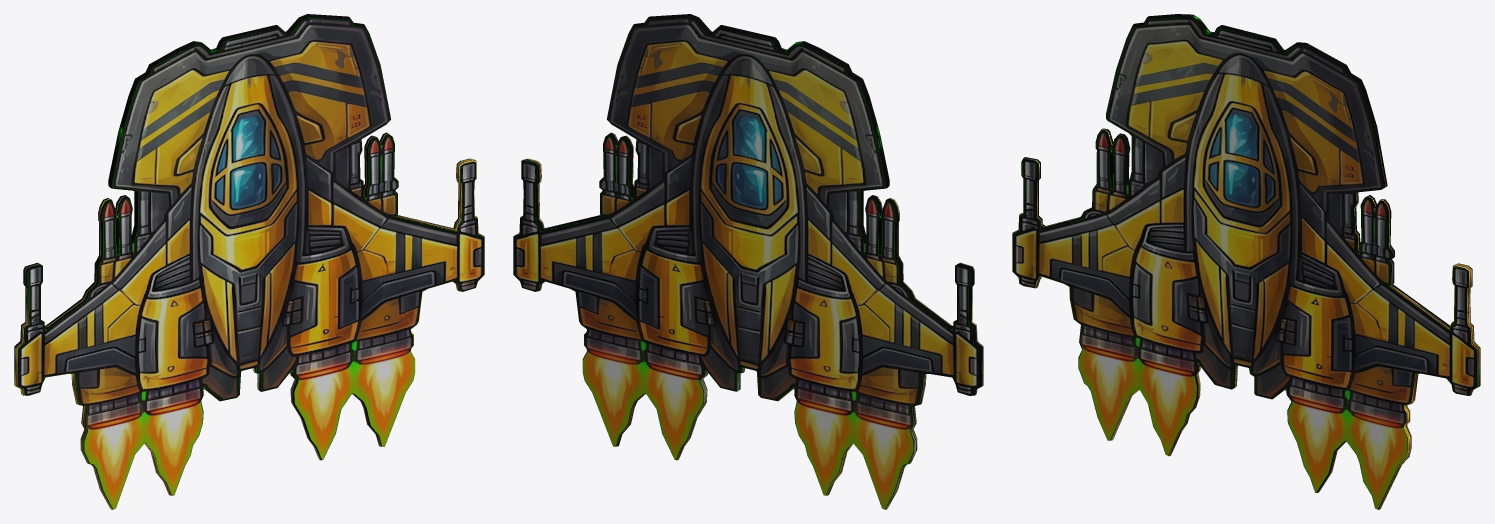
Rendered from Ship11.glb.
The picture shows the model from 3 angles, left to right: view 1: azimuth 30°, elevation 25°; view 2: azimuth 150°, elevation 25°; view 3: azimuth 330°, elevation 25°; orthographic projection.
Bounding box in the file's own units: 0.8019 × 0.7369 × 0.01.
2 materials, 2 textured.
